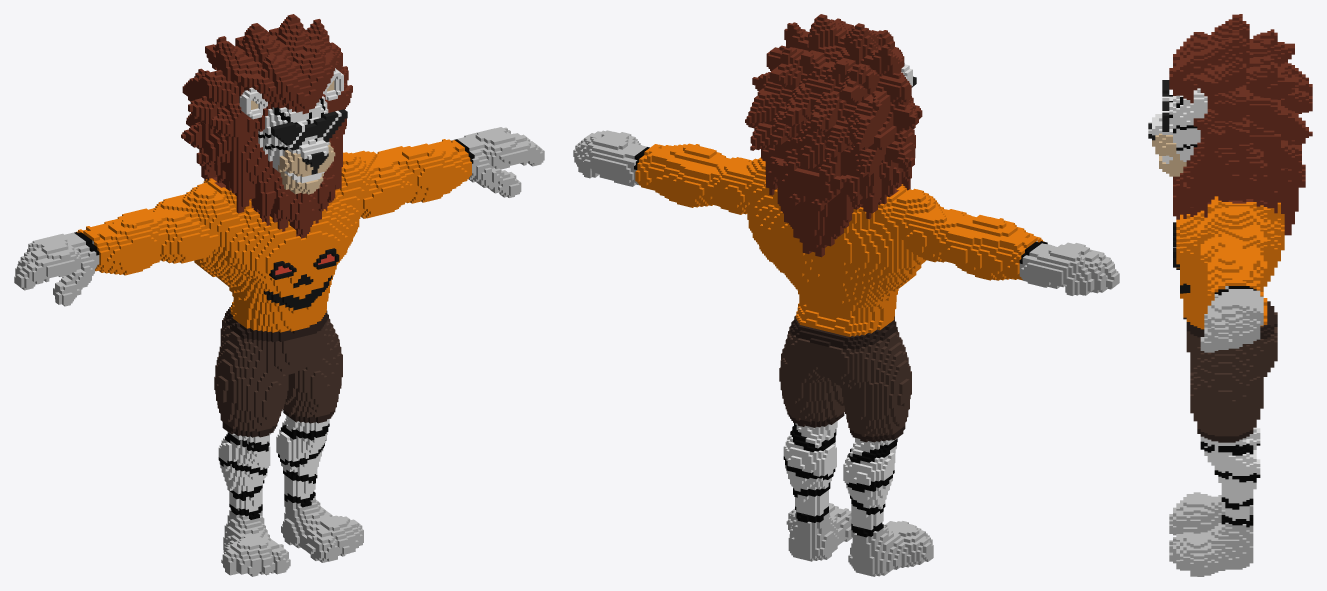
The model's file is 1089-DVeWMp02.fbx.
3 renders of one model, left to right at view 1: azimuth 30°, elevation 25°; view 2: azimuth 150°, elevation 25°; view 3: azimuth 270°, elevation 25°, orthographic. The views are drawn at different scales.
Parts seen in each view (by area): view 1: big_smile; view 2: big_smile; view 3: big_smile.
Boxes of the visible parts, bbox=[...] form: big_smile: bbox=[14, 14, 544, 576]; big_smile: bbox=[573, 14, 1119, 576]; big_smile: bbox=[1148, 14, 1312, 576].
Bounding box in the file's own units: 17.2 × 16.5 × 4.7.
5 materials, 5 textured.
